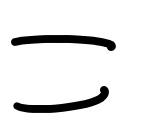eqv: (8, 31, 117, 114)
